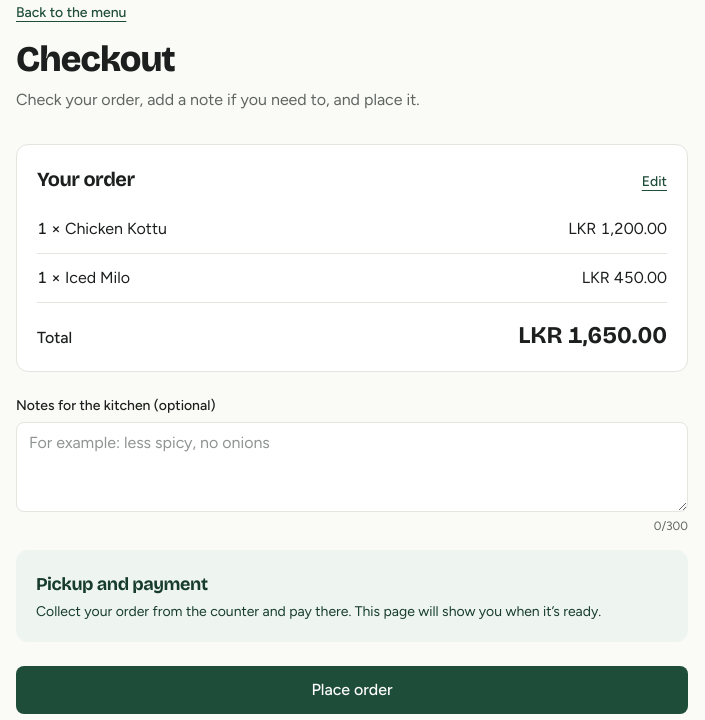
Test case: CheckoutPage › still explains why when every item sold out and the order is now empty
Click the button "Place order": (352, 690) [16,666,688,714]
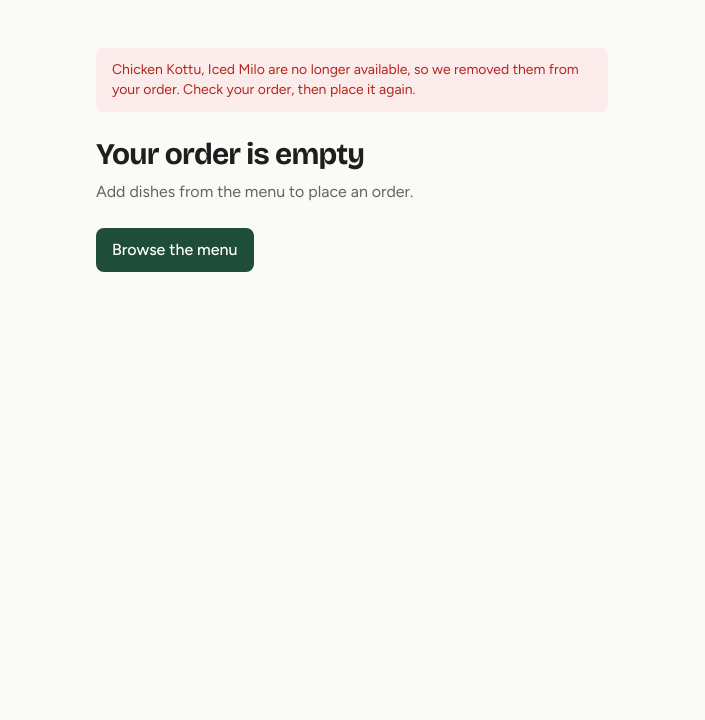
Check: the heading "Your order is empty" is shown, box [96,136,364,172]
Check: the message shows "Chicken Kottu, Iced Milo are no longer available", box [112,61,579,98]
